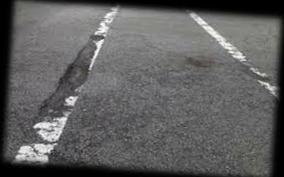faded_road_lines: (16, 5, 117, 162), (187, 10, 267, 76), (258, 78, 278, 96)
pothole: (39, 33, 105, 115)
